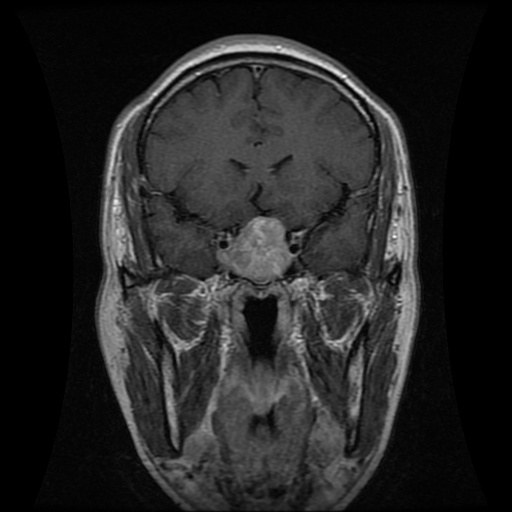pituitary: (216, 214, 294, 284)
